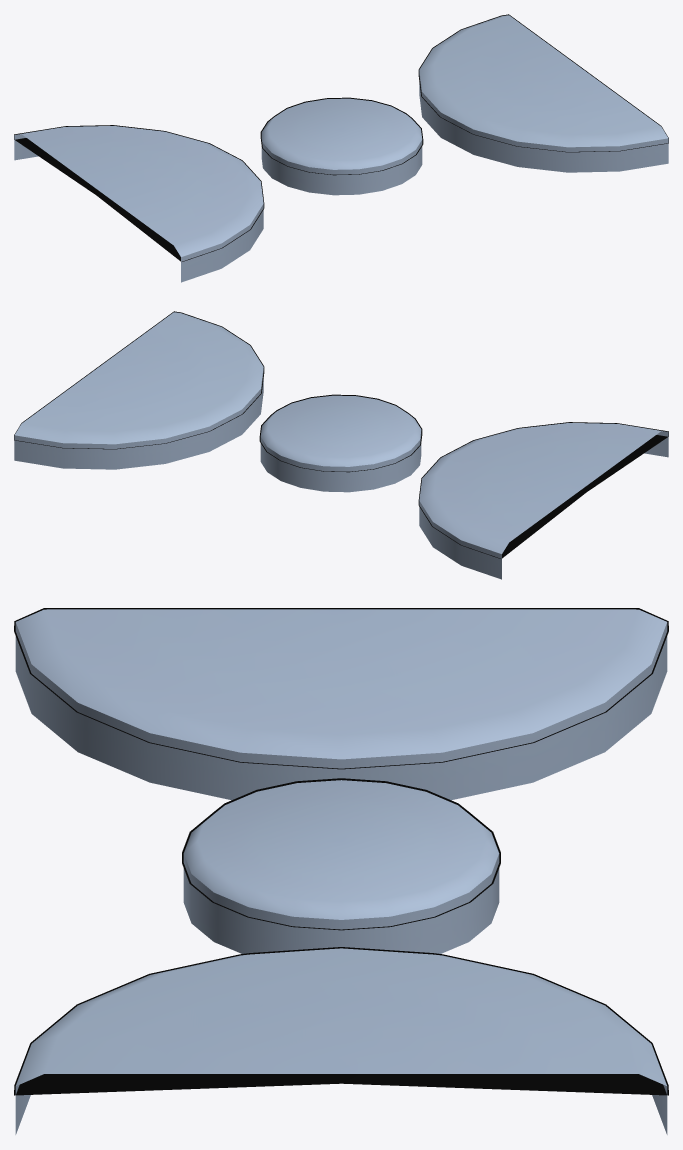
The model's file is Rooms_Paradise_CylinderPattern_Art.fbx.
3 renders of one model, top to bottom at view 1: azimuth 30°, elevation 25°; view 2: azimuth 150°, elevation 25°; view 3: azimuth 270°, elevation 25°, orthographic. The views are drawn at different scales.
Parts seen in each view (by area): view 1: Rooms_Paradise_CylinderPattern_Art, Rooms_Paradise_CylinderPattern_Outline; view 2: Rooms_Paradise_CylinderPattern_Art, Rooms_Paradise_CylinderPattern_Outline; view 3: Rooms_Paradise_CylinderPattern_Art, Rooms_Paradise_CylinderPattern_Outline.
Part boxes in pixels (box(x1,y1,x2,y2)): Rooms_Paradise_CylinderPattern_Art: box(14, 15, 668, 282); Rooms_Paradise_CylinderPattern_Outline: box(14, 14, 668, 261); Rooms_Paradise_CylinderPattern_Art: box(14, 312, 668, 579); Rooms_Paradise_CylinderPattern_Outline: box(14, 311, 668, 558); Rooms_Paradise_CylinderPattern_Art: box(15, 609, 667, 1134); Rooms_Paradise_CylinderPattern_Outline: box(14, 608, 668, 1095).
Size of the model in its own units: 840 by 54.48 by 499.
